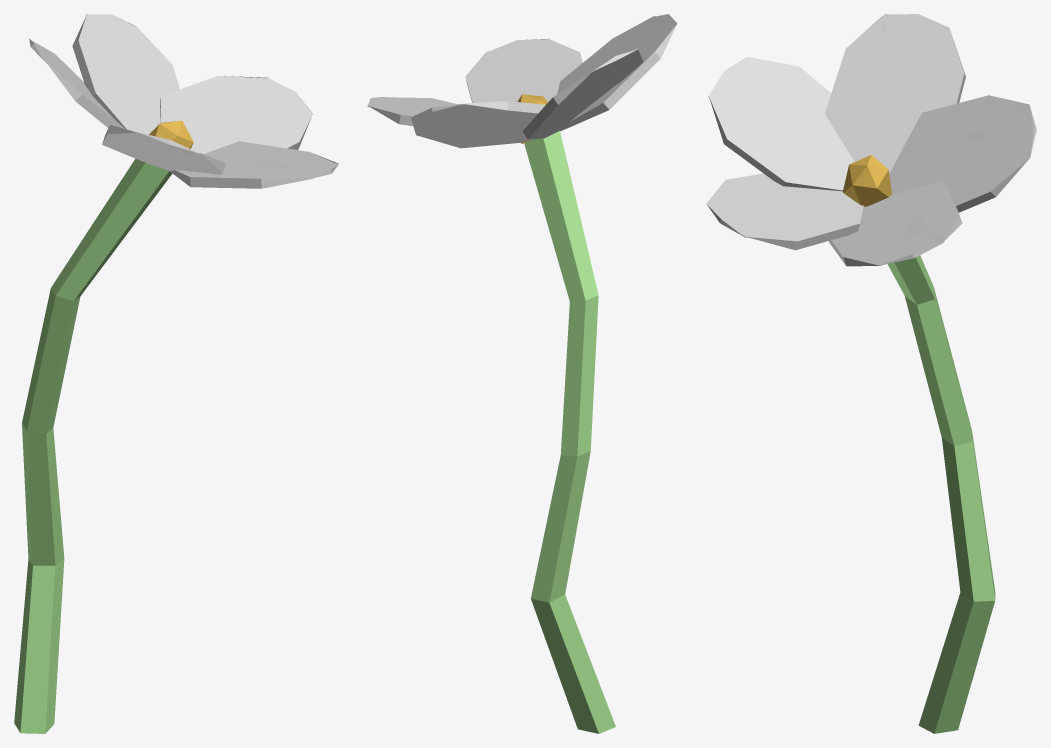
The model's file is flower_3.fbx.
3 renders of one model, left to right at view 1: azimuth 30°, elevation 25°; view 2: azimuth 150°, elevation 25°; view 3: azimuth 270°, elevation 25°, orthographic. The views are drawn at different scales.
Visible parts, largest first — view 1: flower; view 2: flower; view 3: flower.
Boxes of the visible parts, x1=… form: flower: x1=14, y1=14, x2=338, y2=733; flower: x1=367, y1=14, x2=677, y2=733; flower: x1=706, y1=14, x2=1036, y2=733.
Bounding box in the file's own units: 7.28 × 18.06 × 7.67.
